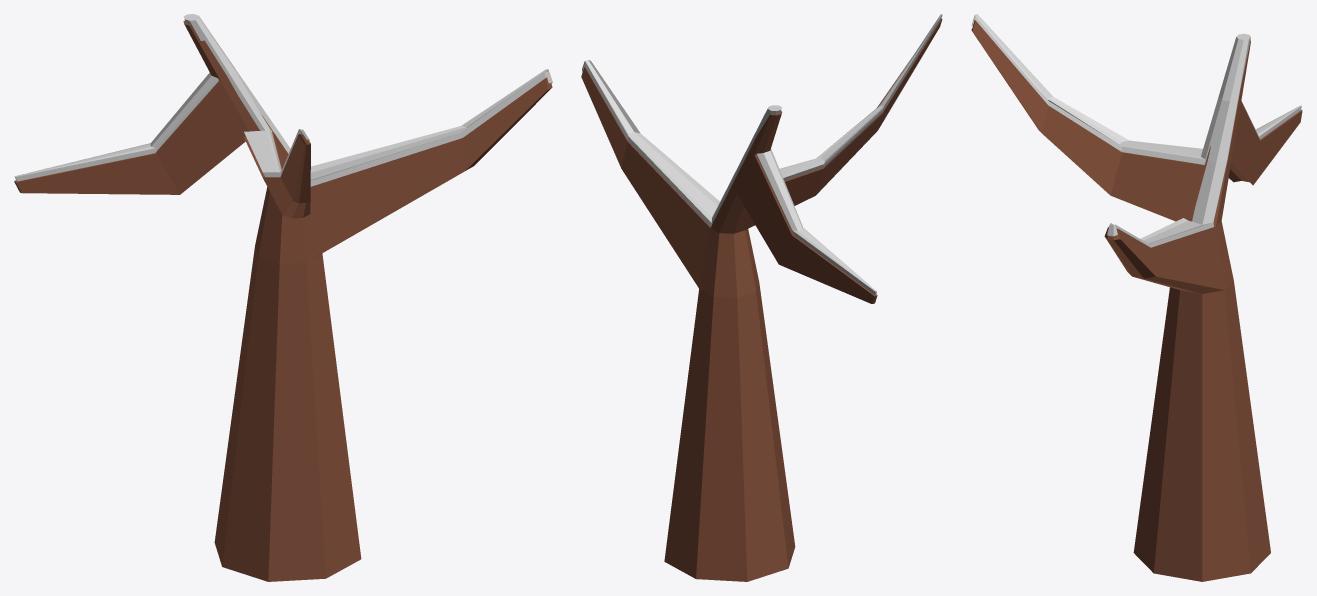
The model's file is bush_5_winter_mat.fbx.
3 views of the same model, side by side, from view 1: azimuth 30°, elevation 25°; view 2: azimuth 150°, elevation 25°; view 3: azimuth 270°, elevation 25° (orthographic). The views are drawn at different scales.
Visible parts, largest first — view 1: bush_5_winter_mat; view 2: bush_5_winter_mat; view 3: bush_5_winter_mat.
Part boxes in pixels (box(x1,y1,x2,y2)): bush_5_winter_mat: box(14, 14, 552, 581); bush_5_winter_mat: box(581, 14, 942, 581); bush_5_winter_mat: box(971, 14, 1302, 581).
Size of the model in its own units: 0.7897 by 0.9389 by 0.5763.
